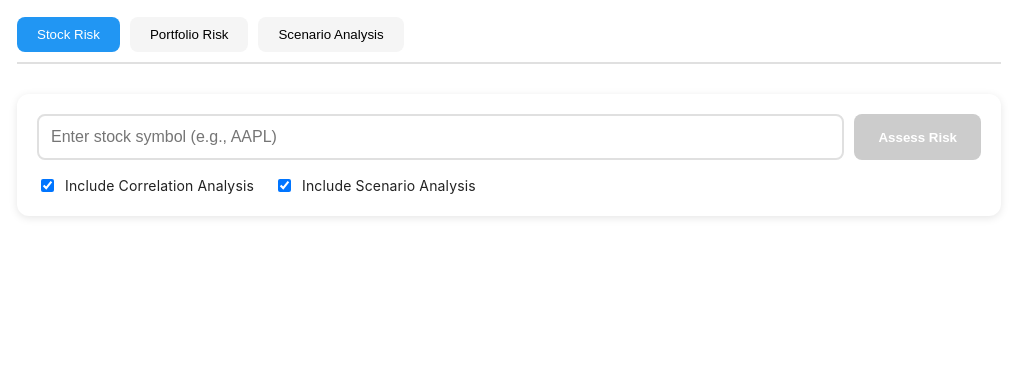
Test: RiskAssessment Component › Portfolio Risk Assessment Mode › should remove portfolio positions
Click the button "Portfolio Risk" at x=189, y=34, box [130, 17, 248, 52]
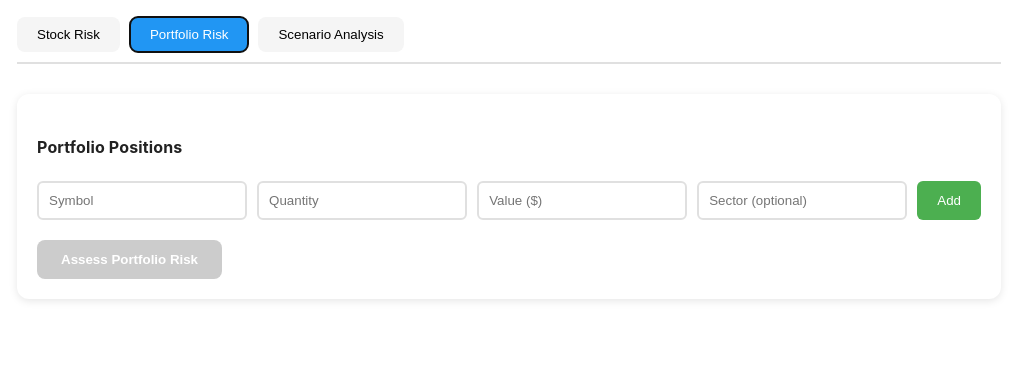
// Add a position
Type "AAPL" into the field with placeholder "Symbol" at x=142, y=200, box [37, 180, 247, 220]
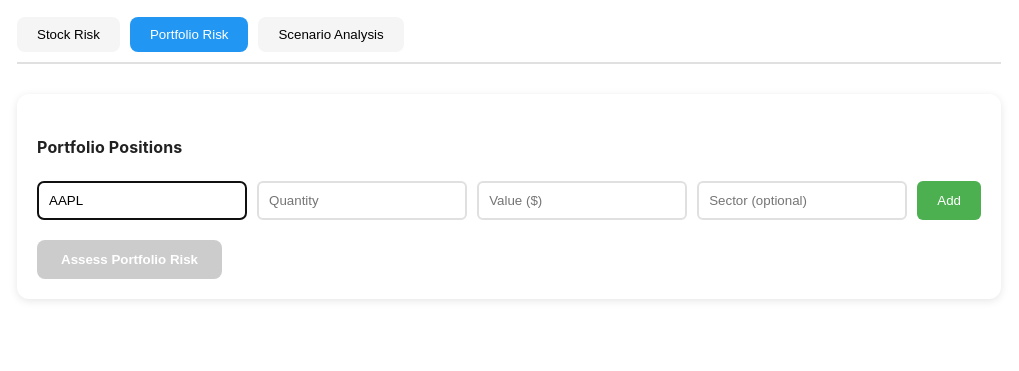
Type "100" into the number field with placeholder "Quantity" at x=362, y=200, box [257, 180, 467, 220]
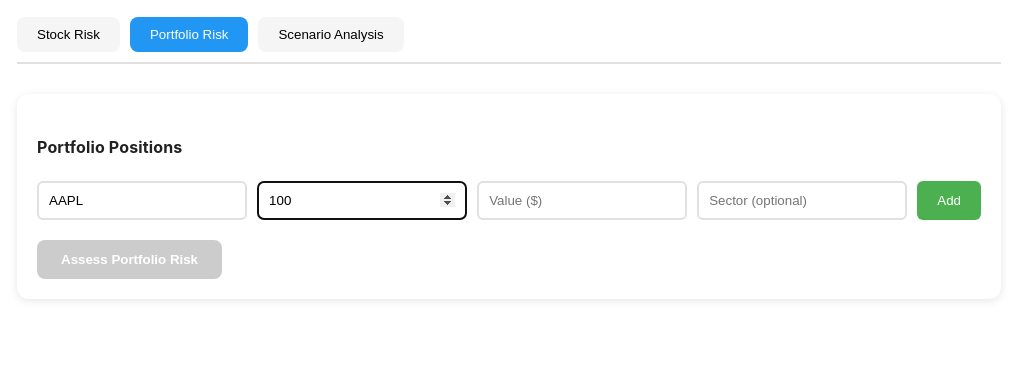
Type "15000" into the number field with placeholder "Value ($)" at x=582, y=200, box [477, 180, 687, 220]
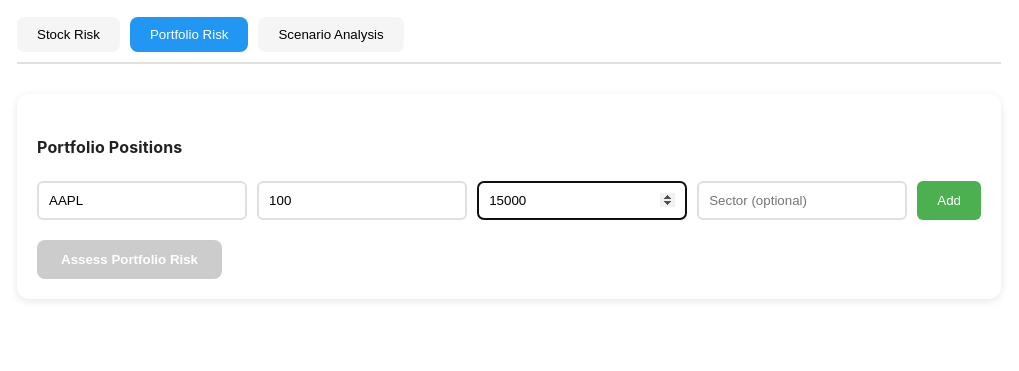
Click the button "Add" at x=949, y=200, box [917, 180, 981, 220]
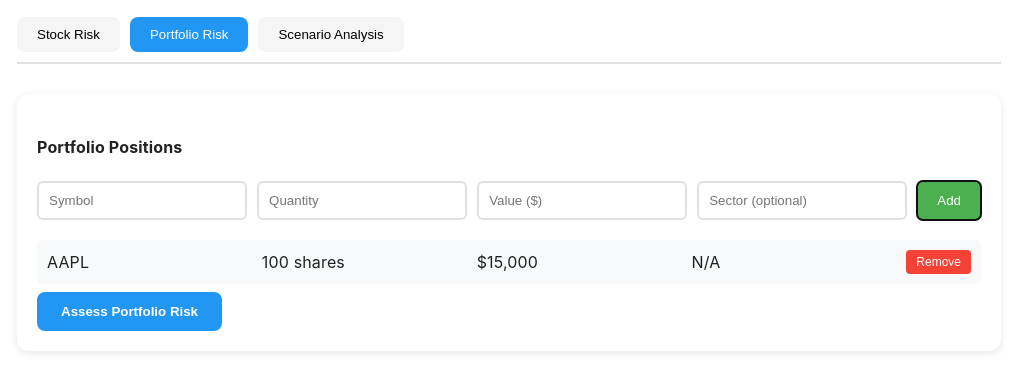
// Remove the position
Click the button "Remove" at x=939, y=262, box [906, 250, 971, 274]
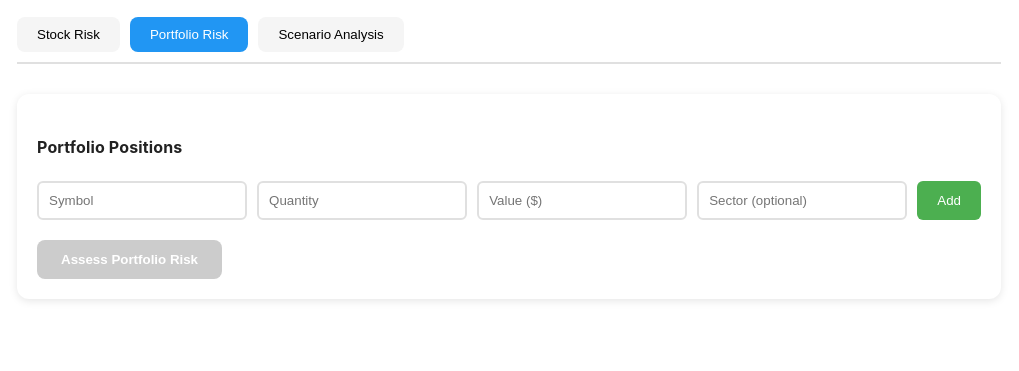
Expected: the text "AAPL" is gone
